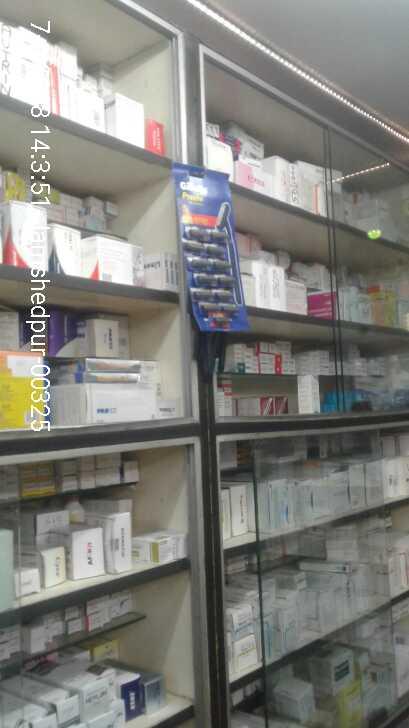gillette: (178, 152, 250, 337)
